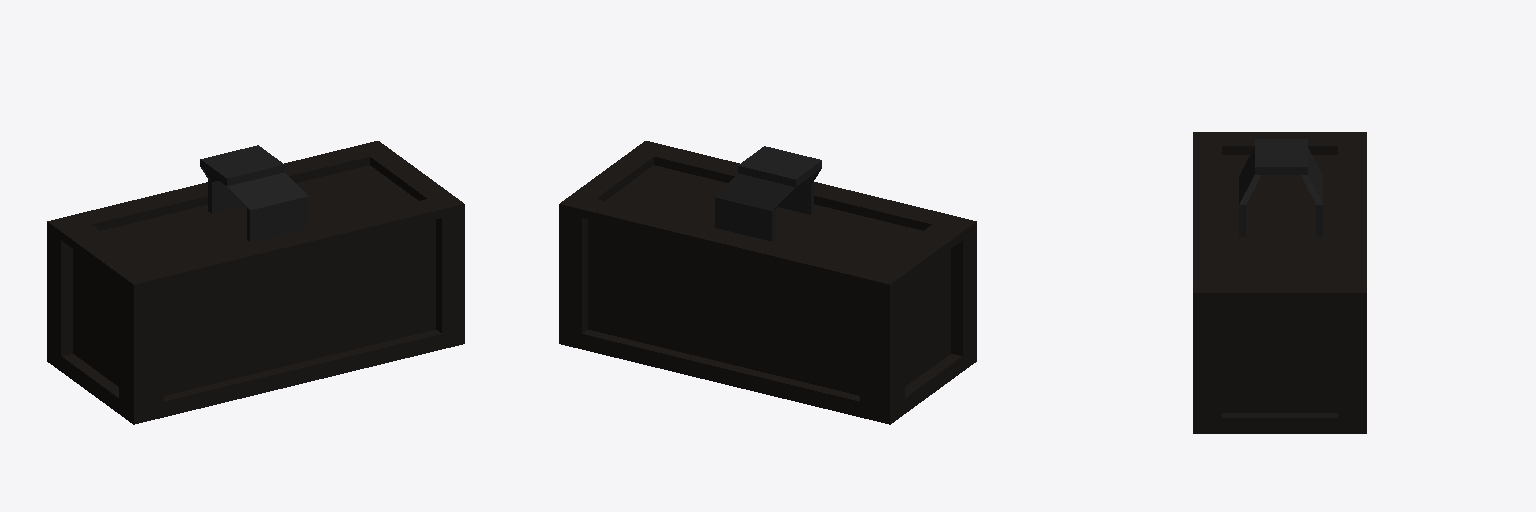
File: tram3.obj
3 renders of one model, left to right at view 1: azimuth 30°, elevation 25°; view 2: azimuth 150°, elevation 25°; view 3: azimuth 270°, elevation 25°, orthographic.
Parts seen in each view (by area): view 1: tram_group_3 tram_cargo1, tram_anchor1 tram_group_3; view 2: tram_group_3 tram_cargo1, tram_anchor1 tram_group_3; view 3: tram_group_3 tram_cargo1, tram_anchor1 tram_group_3.
Boxes of the visible parts, x1,y1,x2,y2 form: tram_group_3 tram_cargo1: [47, 141, 464, 424]; tram_anchor1 tram_group_3: [200, 145, 307, 241]; tram_group_3 tram_cargo1: [559, 141, 976, 424]; tram_anchor1 tram_group_3: [715, 146, 821, 241]; tram_group_3 tram_cargo1: [1193, 132, 1366, 433]; tram_anchor1 tram_group_3: [1239, 139, 1322, 236].
Size of the model in its own units: 44.83 by 25.01 by 20.29.